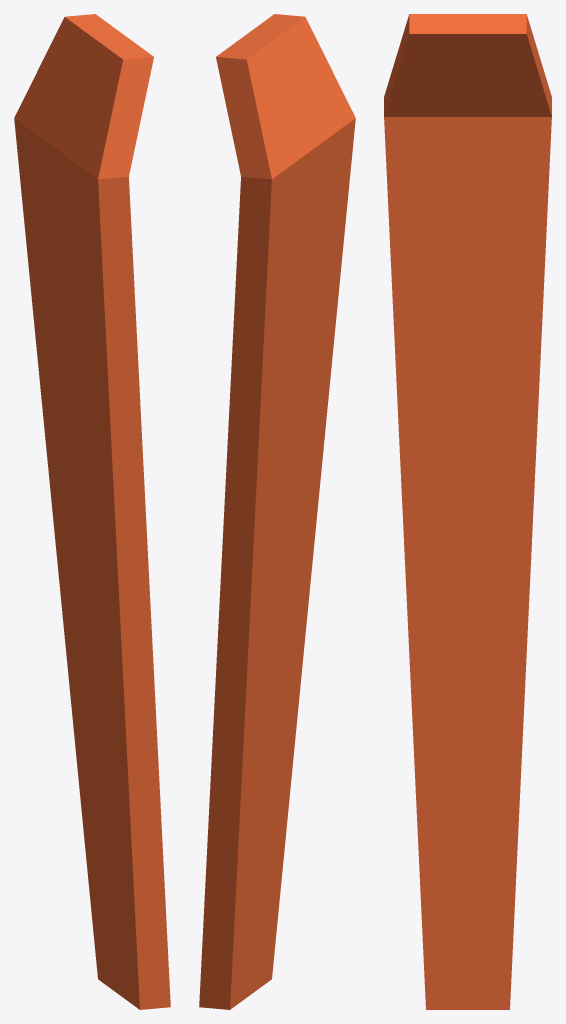
File: carrotPeelCollider.obj
The picture shows the model from 3 angles, left to right: view 1: azimuth 30°, elevation 25°; view 2: azimuth 150°, elevation 25°; view 3: azimuth 270°, elevation 25°; orthographic projection.
Parts seen in each view (by area): view 1: carrotBody.001, carrotBody.002; view 2: carrotBody.001, carrotBody.002; view 3: carrotBody.001, carrotBody.002.
Boxes of the visible parts, box(x1,y1,x2,y2) form: carrotBody.001: box(14, 118, 170, 1009); carrotBody.002: box(14, 14, 153, 179); carrotBody.001: box(199, 118, 355, 1009); carrotBody.002: box(216, 14, 355, 179); carrotBody.001: box(384, 117, 551, 1009); carrotBody.002: box(384, 14, 551, 116).
Size of the model in its own units: 0.0194 by 0.191 by 0.03.
